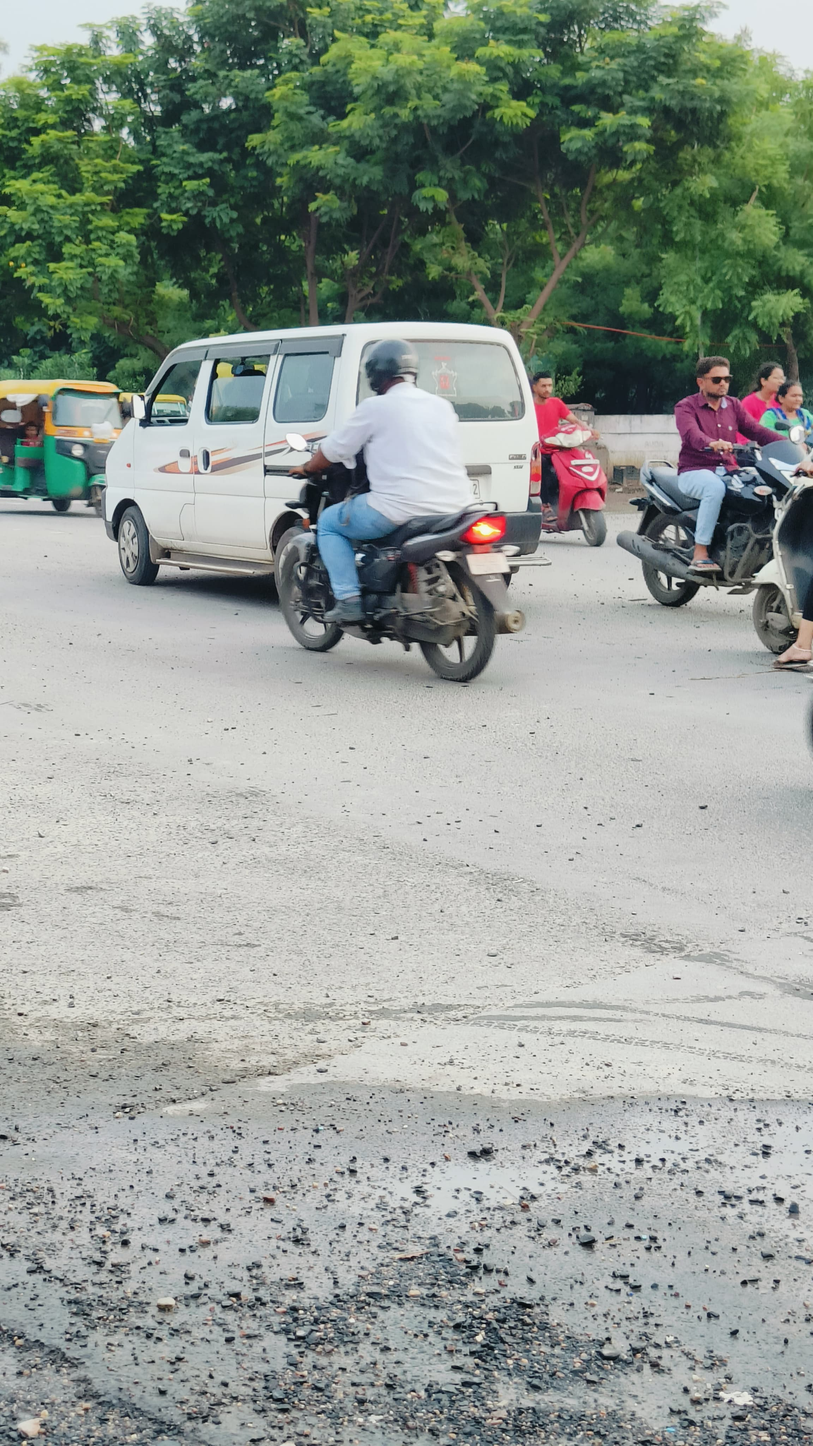BikeWithRider: (261, 327, 525, 684), (618, 351, 813, 608), (526, 366, 610, 548)
Helmet: (357, 329, 424, 398)
NoHelmet: (696, 355, 731, 399), (532, 369, 560, 400)
